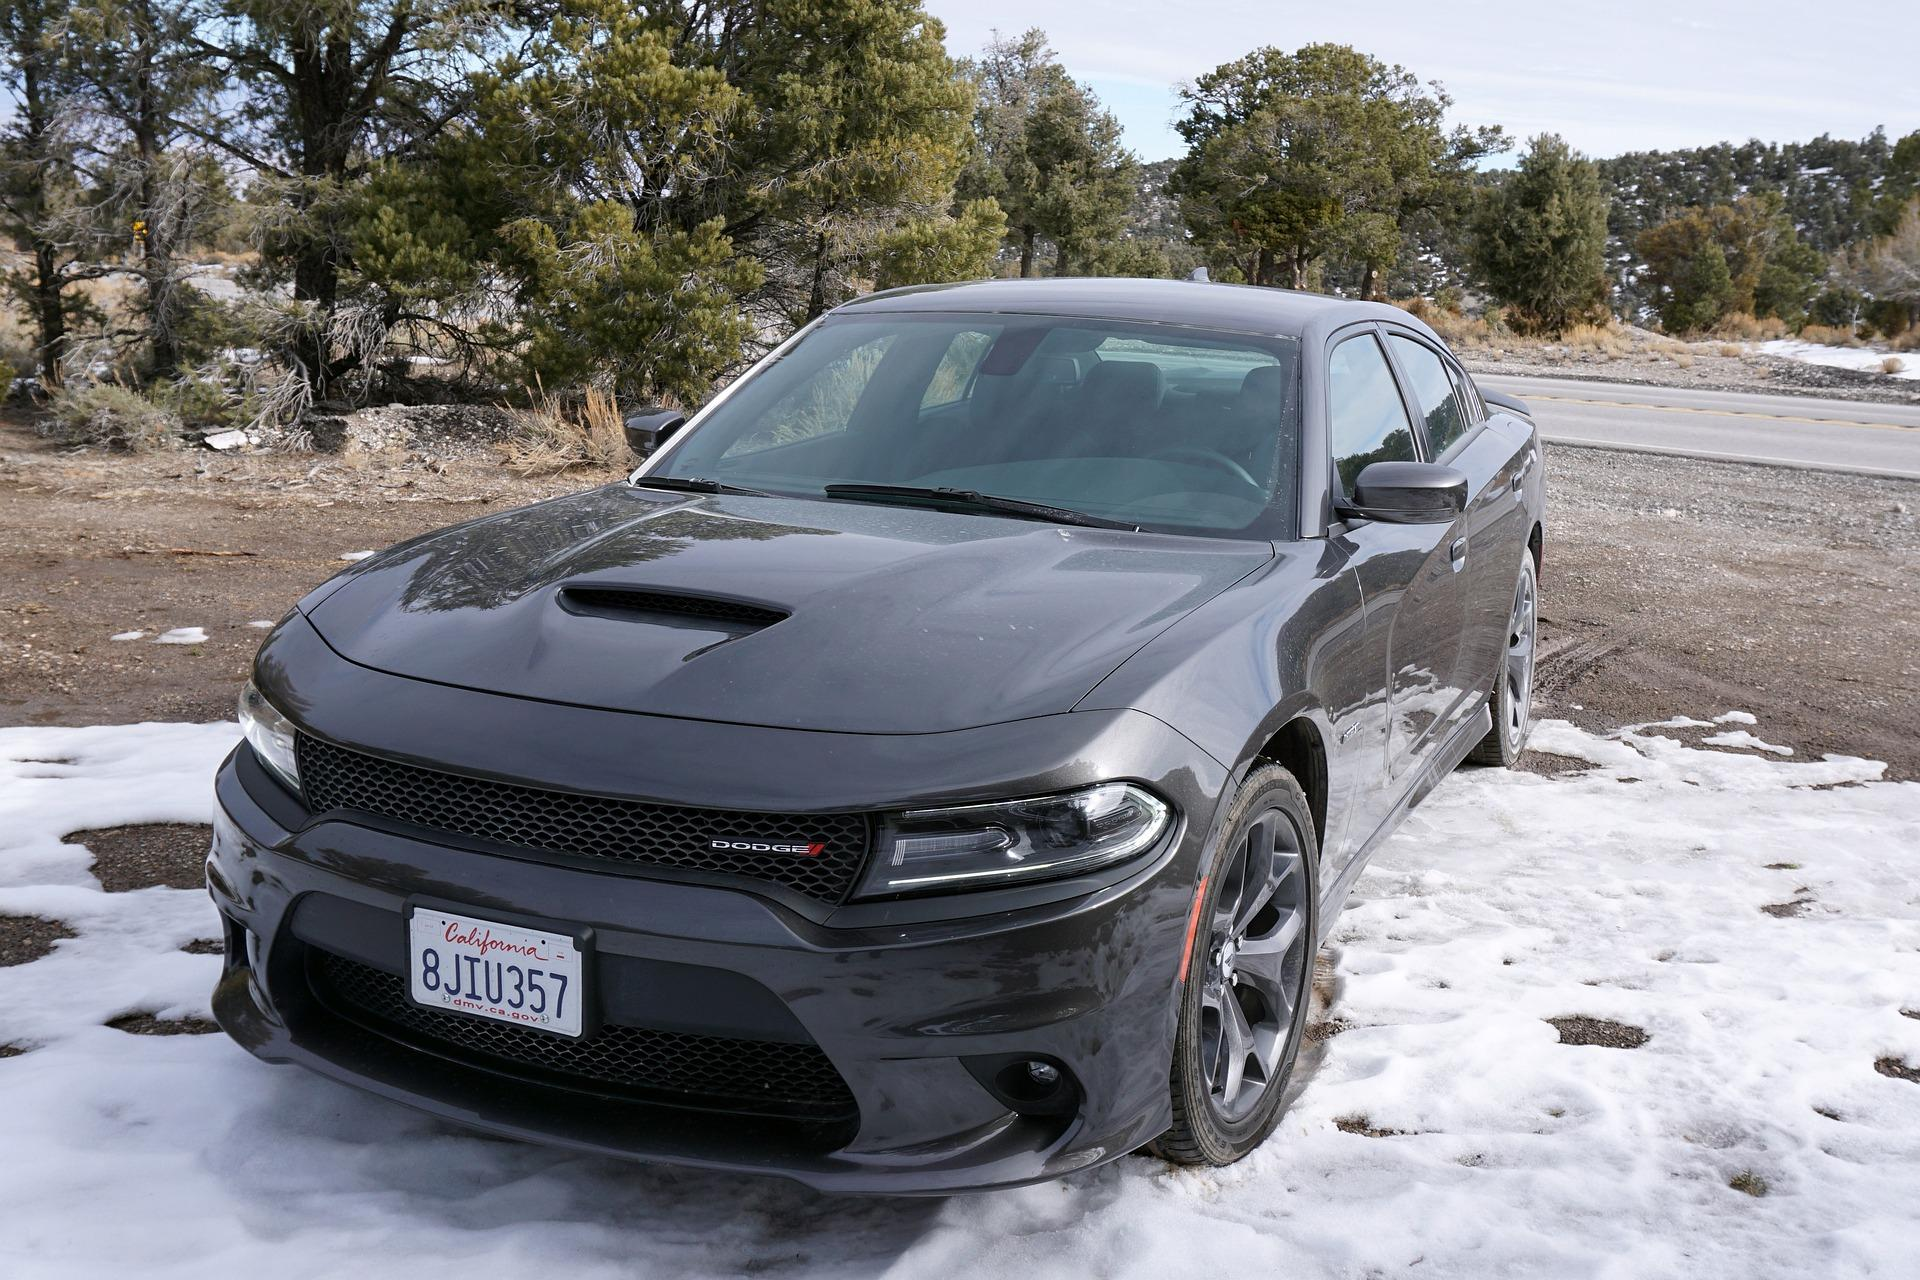dodge: (696, 819, 834, 873)
